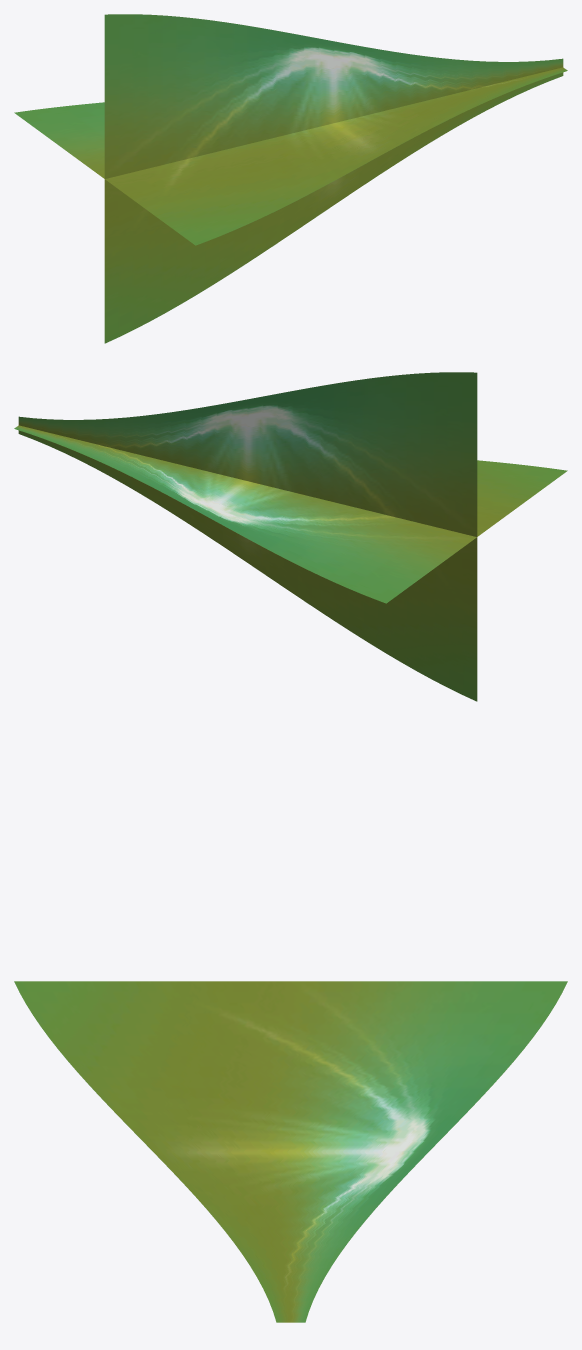
File: chuici.FBX
3 views of the same model, one above another, from view 1: azimuth 30°, elevation 25°; view 2: azimuth 150°, elevation 25°; view 3: azimuth 270°, elevation 25° (orthographic). The views are drawn at different scales.
Visible parts, largest first — view 1: Plane002; view 2: Plane002; view 3: Plane002.
Part boxes in pixels (box(x1,y1,x2,y2)): Plane002: box(14, 14, 567, 343); Plane002: box(14, 372, 567, 701); Plane002: box(14, 981, 567, 1322).
Size of the model in its own units: 90 by 61.76 by 61.76.
1 material, 1 textured.
